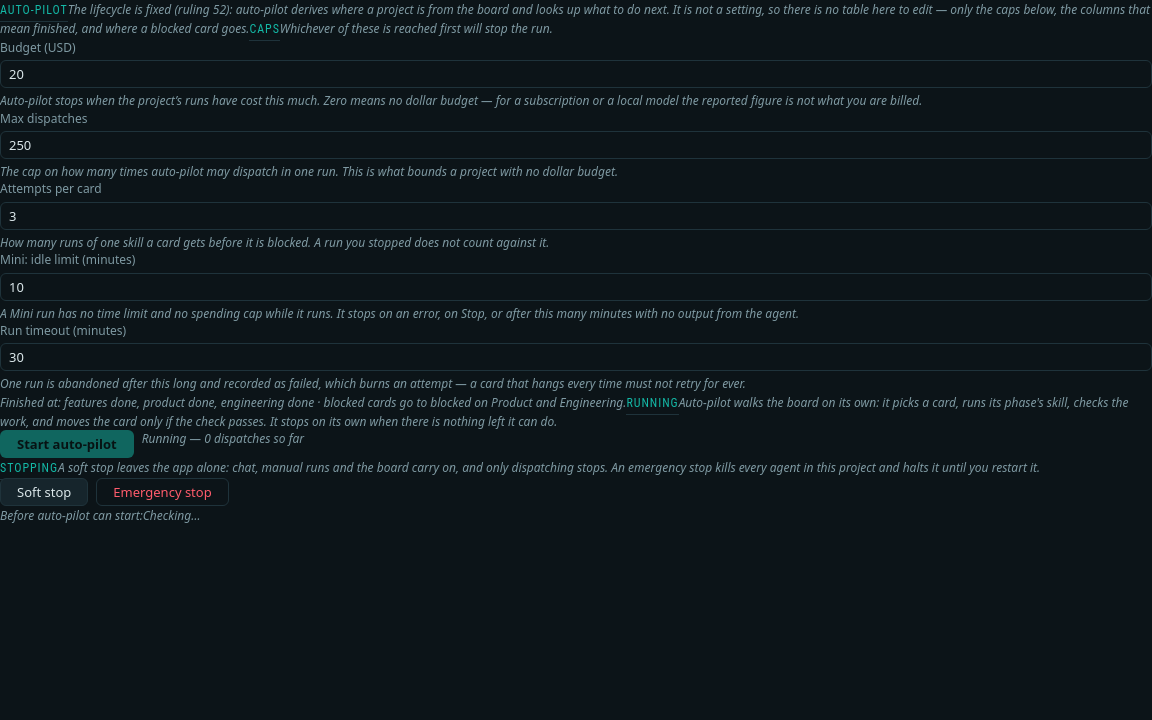
Scenario: the stop controls › asks before the emergency stop, and kills nothing while the question is open
Click the button "Emergency stop": (162, 492) [96,478,229,506]
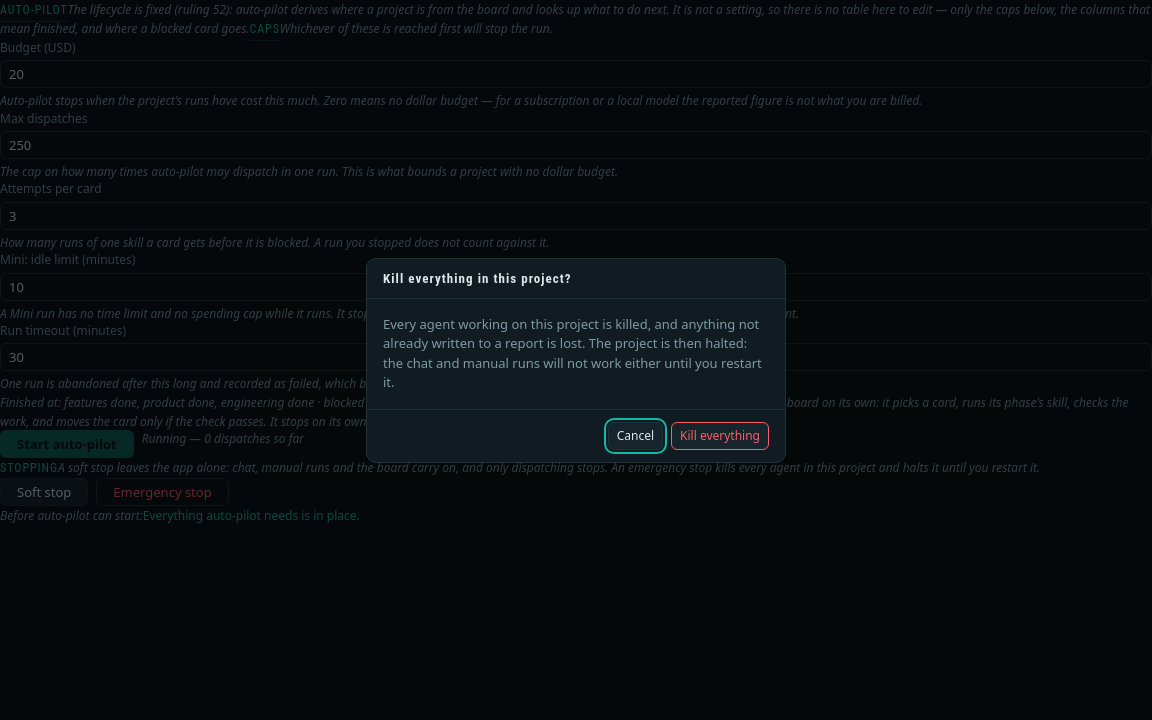
Now the text "Kill everything in this project?" is shown, box [383,270,572,286]
